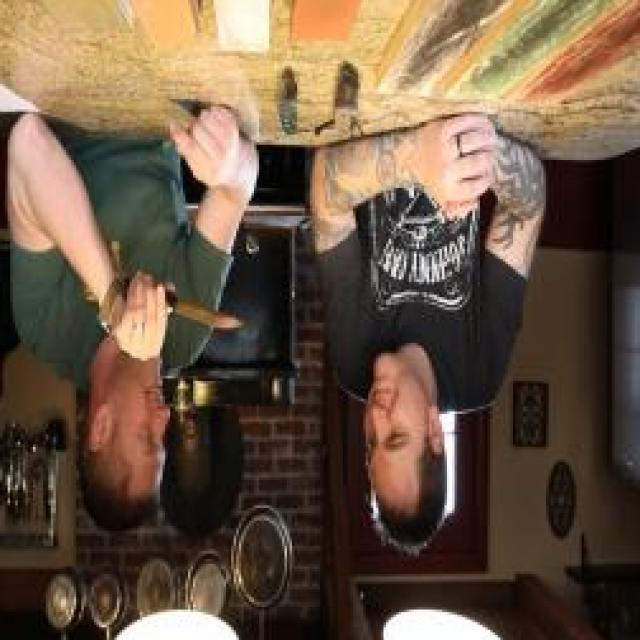knife: (124, 269, 249, 366)
